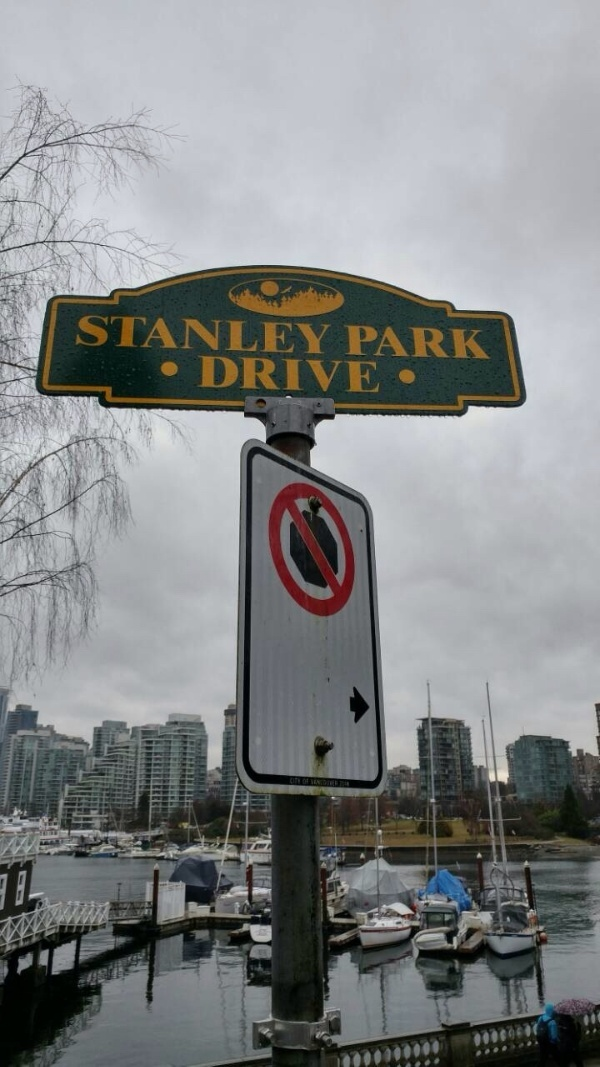text: (81, 312, 96, 356), (97, 312, 112, 356), (113, 312, 128, 356), (129, 312, 144, 356), (145, 312, 160, 356), (161, 312, 176, 356), (177, 312, 192, 356), (193, 312, 208, 356), (209, 312, 224, 356), (225, 312, 240, 356), (241, 312, 256, 356), (257, 312, 272, 356), (273, 312, 288, 356), (289, 312, 304, 356), (305, 312, 320, 356), (353, 323, 368, 362), (369, 323, 384, 362), (385, 323, 400, 362), (401, 323, 416, 362), (417, 323, 432, 362), (433, 323, 448, 362), (449, 323, 464, 362), (465, 323, 480, 362), (209, 356, 224, 393), (225, 356, 240, 393), (241, 356, 256, 393), (257, 356, 272, 393), (273, 356, 288, 393), (289, 356, 304, 393), (305, 356, 320, 393), (321, 356, 336, 393), (337, 356, 352, 393), (353, 356, 368, 393), (196, 356, 208, 393), (369, 356, 381, 393), (321, 312, 331, 356), (481, 323, 491, 362), (345, 323, 352, 362), (77, 312, 80, 356)
